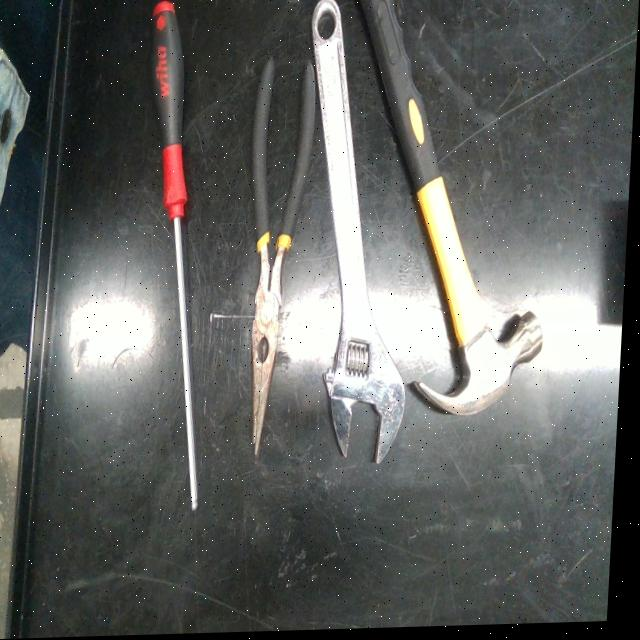Screwdriver: (153, 3, 203, 510)
